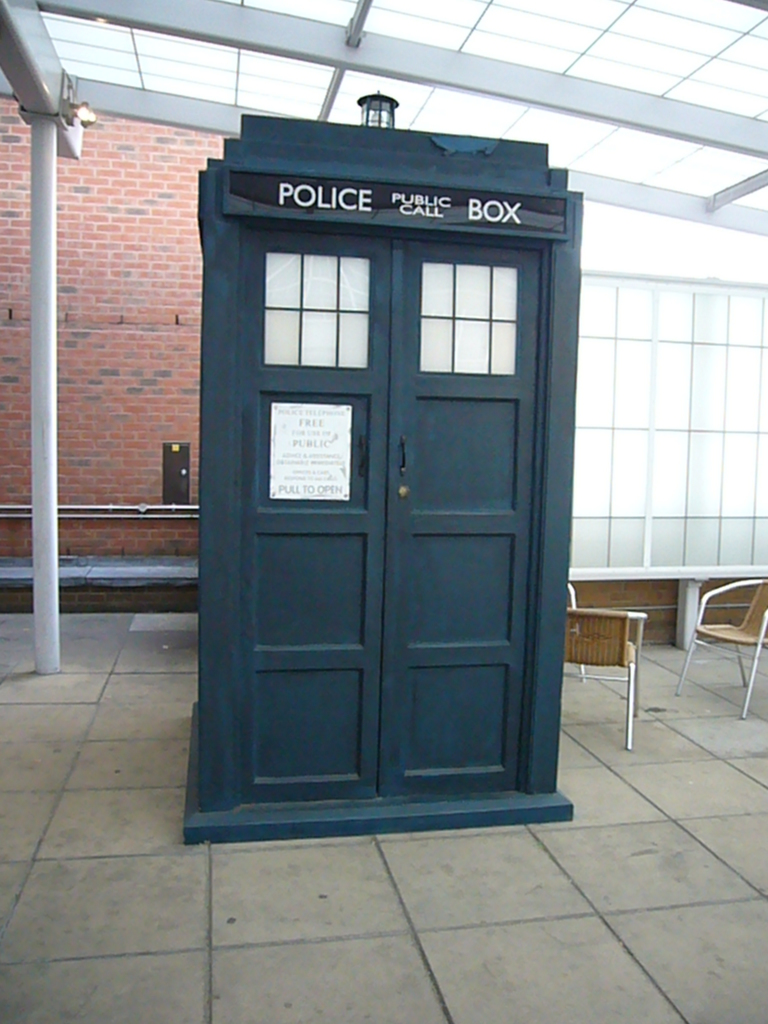door: (253, 240, 374, 779), (395, 267, 515, 774)
handle: (400, 431, 412, 479)
